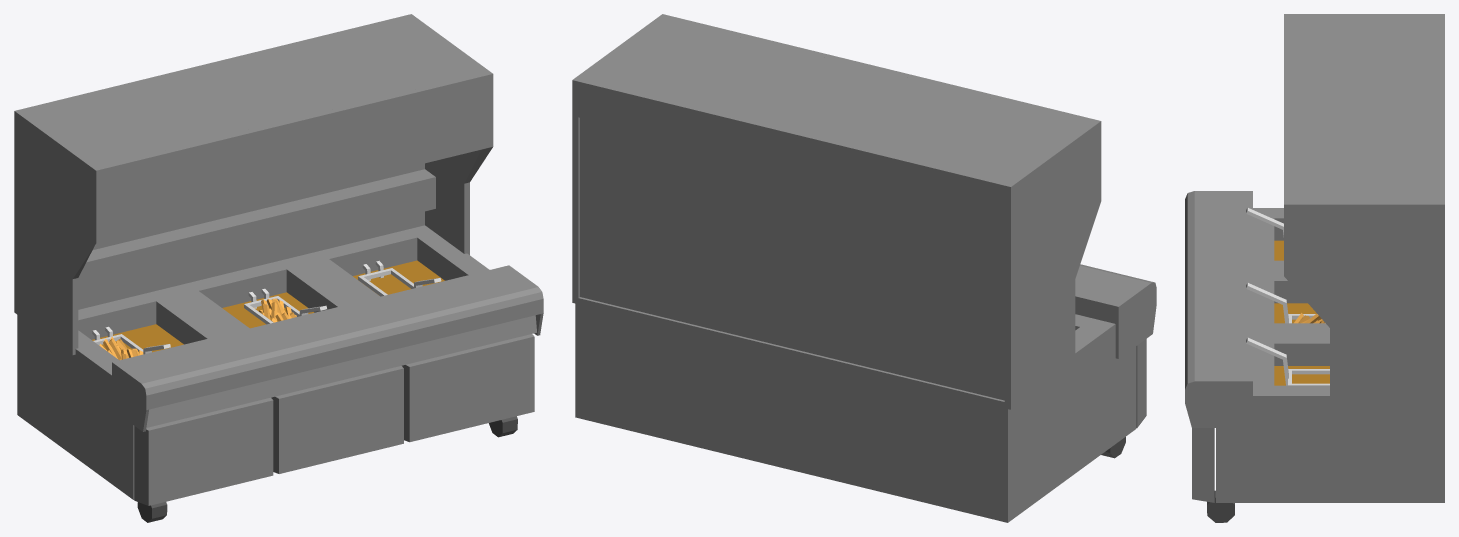
File: fryerMeshNew.fbx
The picture shows the model from 3 angles, left to right: view 1: azimuth 30°, elevation 25°; view 2: azimuth 150°, elevation 25°; view 3: azimuth 270°, elevation 25°; orthographic projection. The views are drawn at different scales.
Parts seen in each view (by area): view 1: Plane.004; view 2: Plane.004; view 3: Plane.004.
Part boxes in pixels (bbox=[...]): Plane.004: bbox=[14, 14, 543, 522]; Plane.004: bbox=[572, 14, 1156, 522]; Plane.004: bbox=[1185, 14, 1444, 522].
Bounding box in the file's own units: 197 × 157 × 114.
